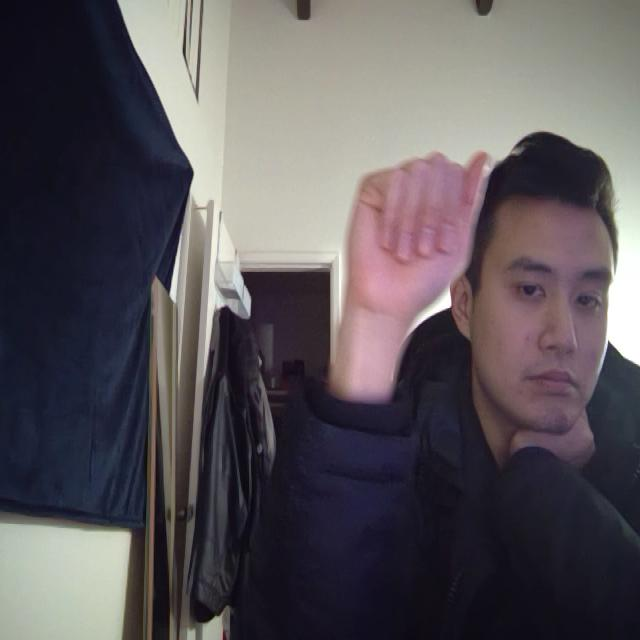A: (323, 121, 502, 362)
